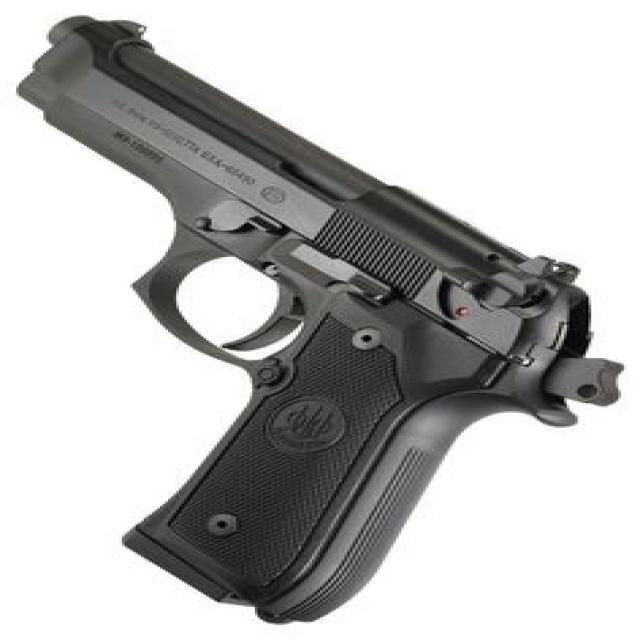semi automatic: (8, 8, 640, 640)
